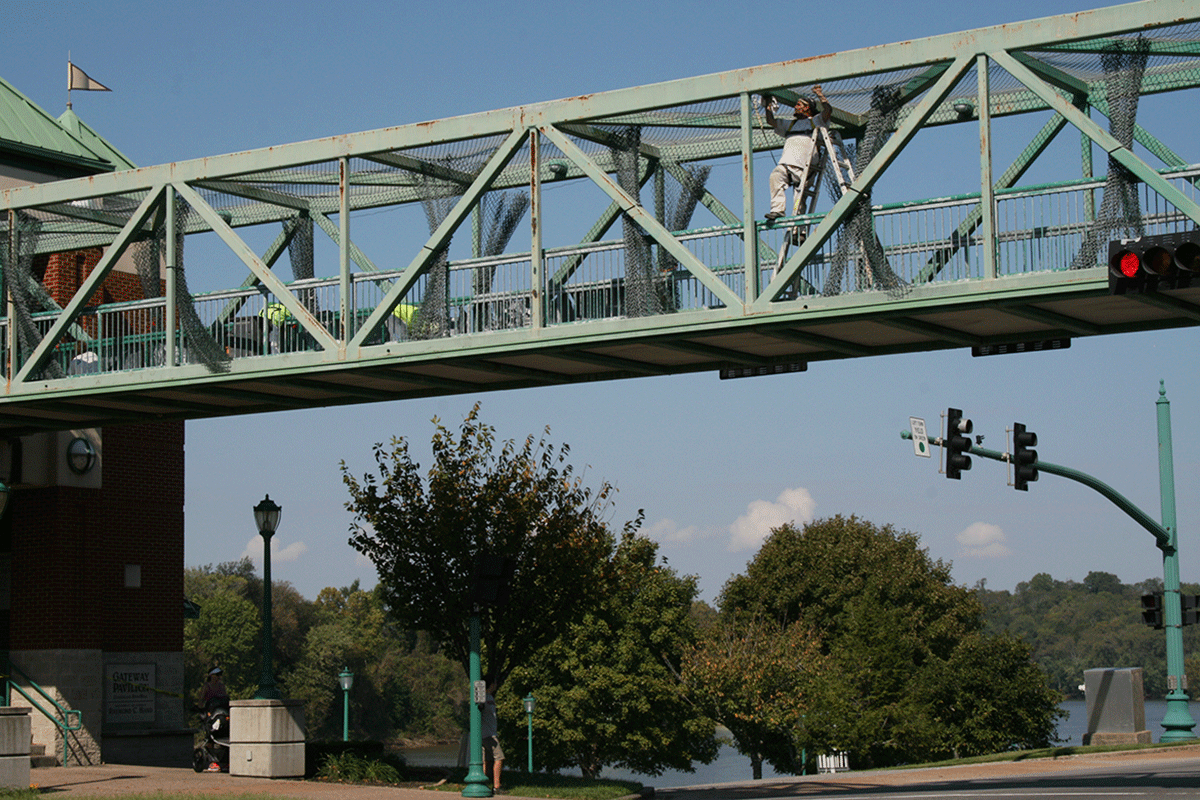bridge: (1, 3, 1195, 429)
